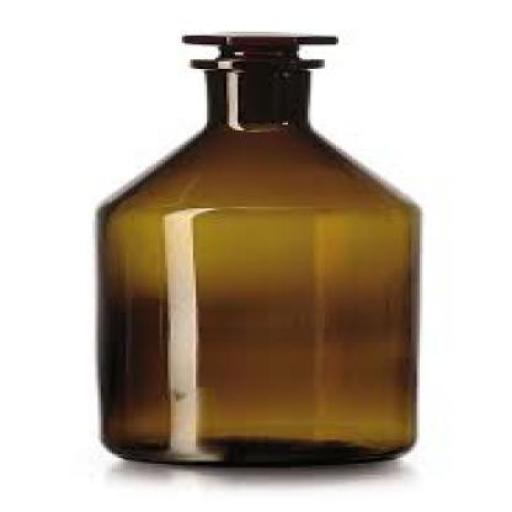glass: (92, 37, 420, 465)
